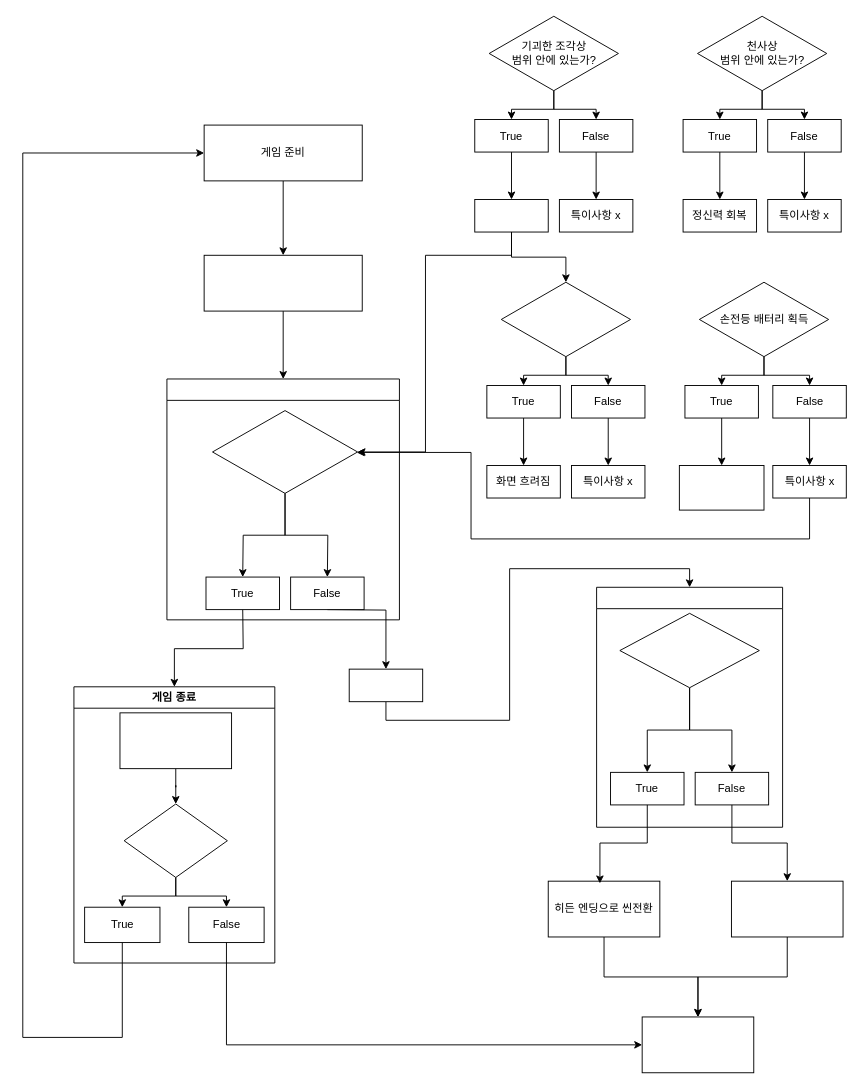
Image size: 863x1089. Some labels were removed from this diagram. The box of each missing label's shape, as (x1, y1, x2, y2) in pixels:
게임 오버씬으로 전환: (119, 712, 232, 769)
게임 진행: (166, 378, 399, 620)
게임 클리어: (596, 586, 783, 827)
계속 진행: (348, 668, 423, 702)
노멀 엔딩으로 씬전환: (731, 880, 843, 937)
다시 시작 여부 묻기: (123, 803, 227, 877)
손전등 배터리를 100으로 회복: (678, 465, 764, 510)
시작 화면으로 전환: (641, 1016, 754, 1073)
작은 조각상을 15개 이상 모았는가?: (619, 612, 759, 688)
정신력 감소: (474, 199, 548, 232)
정신력이 50 이하인가?: (500, 281, 631, 357)
정신력이나 손전등의 배터리의 수치가 0인가?: (212, 410, 358, 493)
초기화: (203, 254, 362, 311)
